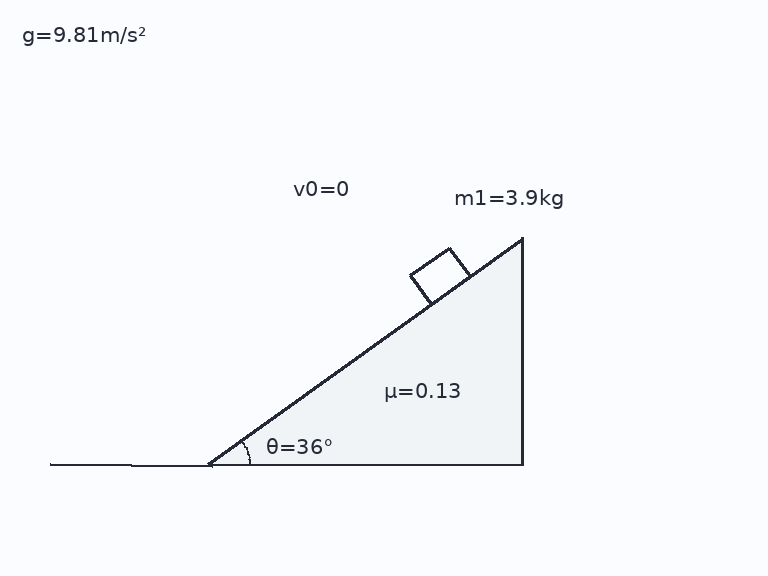block: (408, 245, 472, 307)
ramp: (208, 236, 524, 467)
